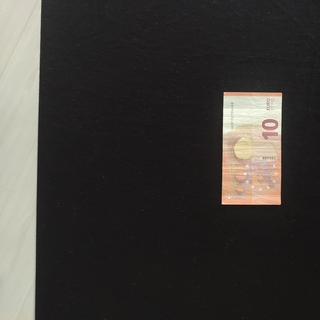10EUROBack: (221, 91, 282, 205)
